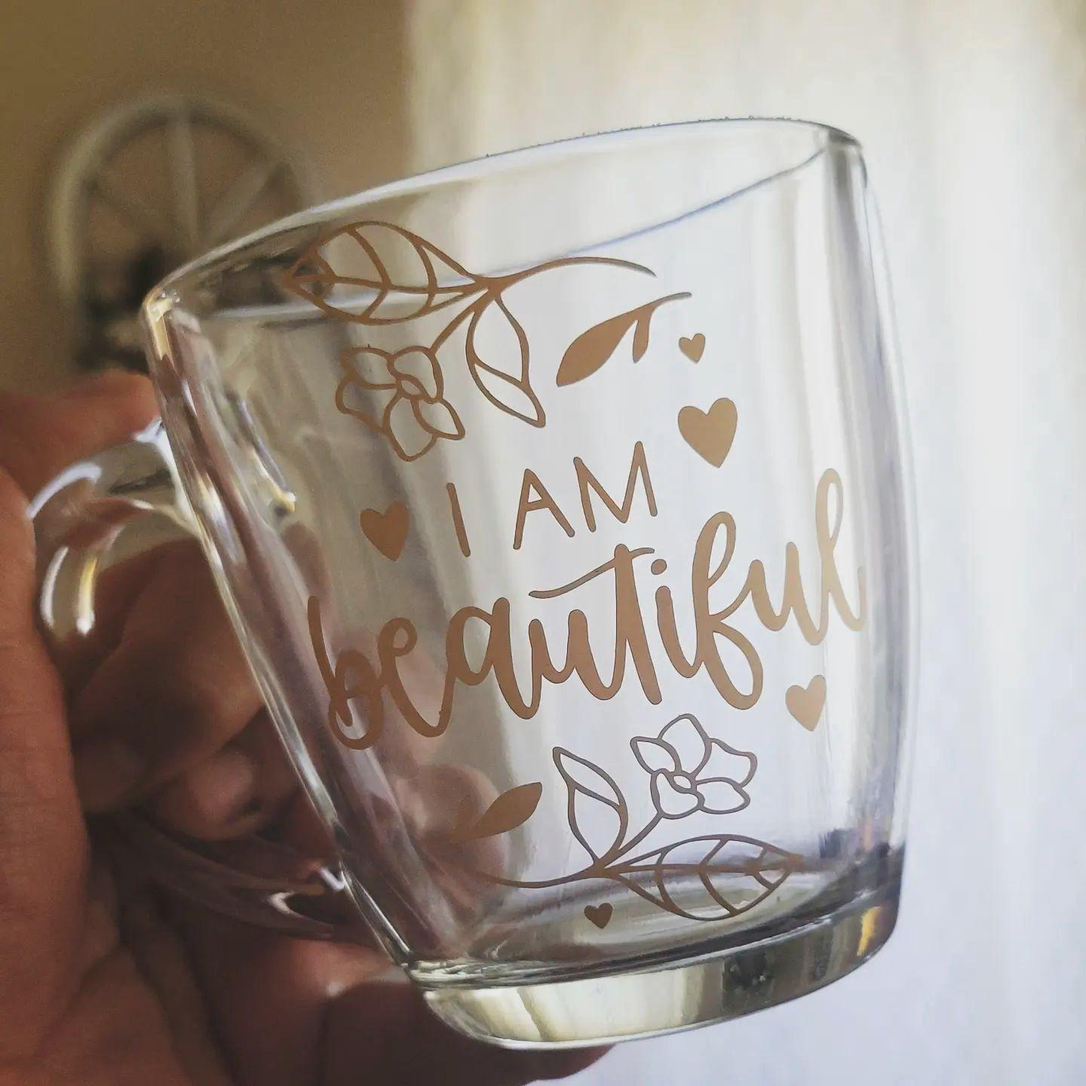glass-mug: (7, 105, 931, 1086)
